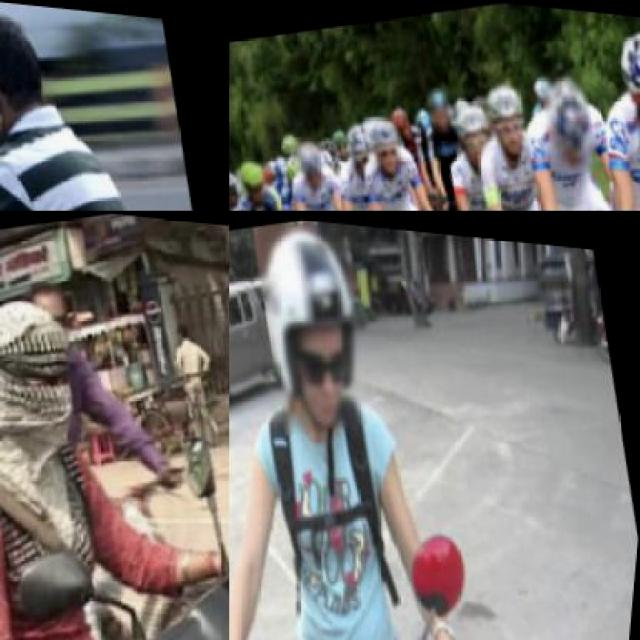With Helmet: (0, 266, 118, 484), (535, 54, 613, 174), (472, 68, 542, 162), (603, 6, 639, 142), (361, 107, 417, 184), (447, 90, 504, 161), (231, 145, 283, 209), (290, 130, 336, 192), (424, 78, 464, 137), (344, 115, 382, 173), (230, 169, 252, 209)
Without Helmet: (240, 211, 395, 440), (0, 0, 71, 162)
